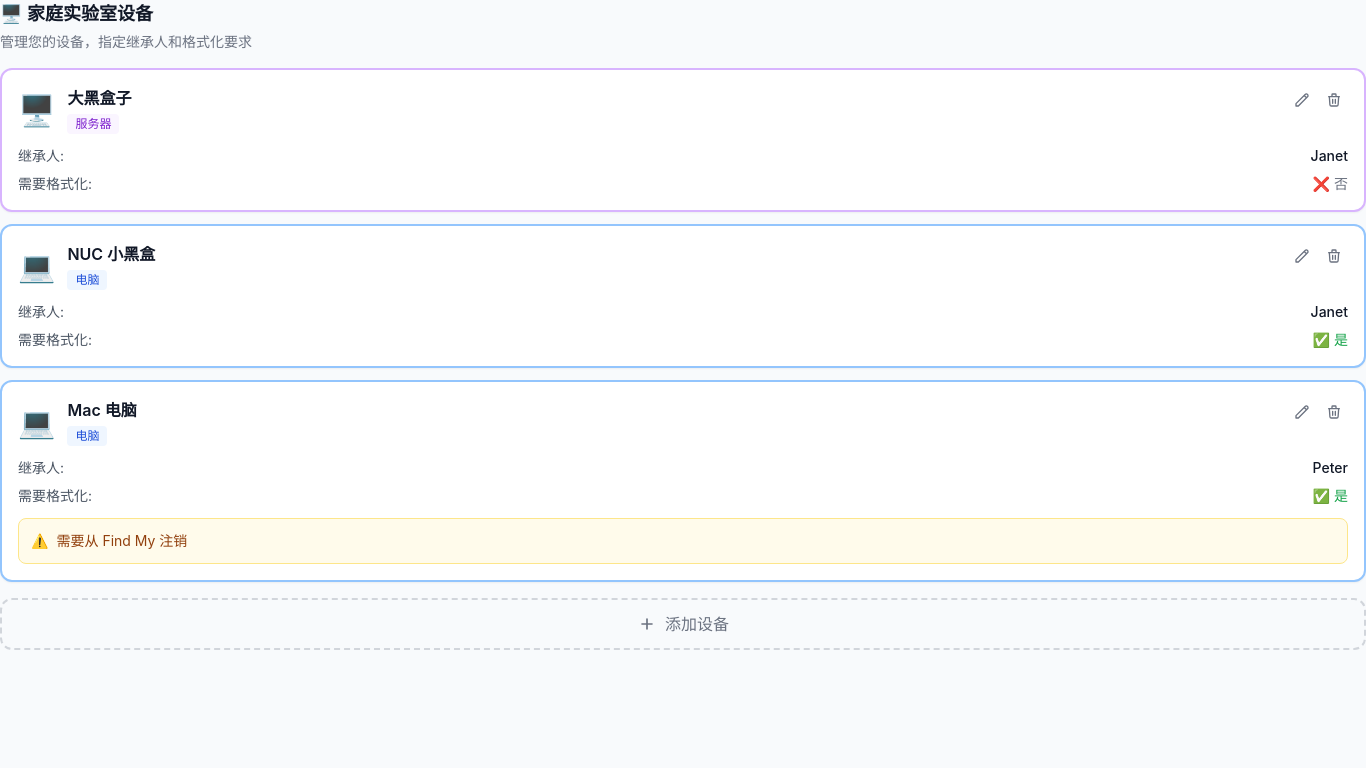
Scenario: DeviceCardList › Add Device › should hide add button when form is shown
The image size is (1366, 768).
What coordinates should you click on to do the following:
click the button with test id "add-device-button"
I would click on:
 (683, 624)
Its box is [0,598,1365,650].
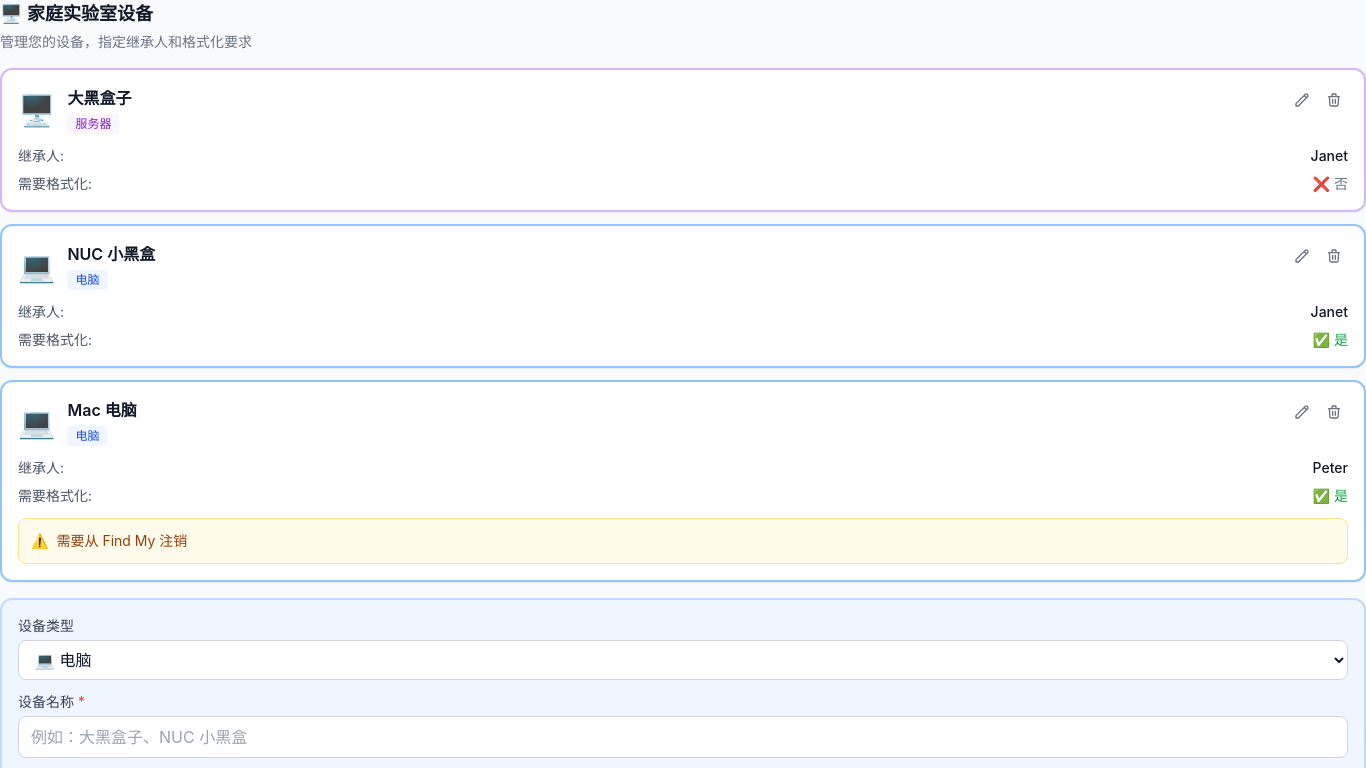
Check: the button with test id "add-device-button" is gone
